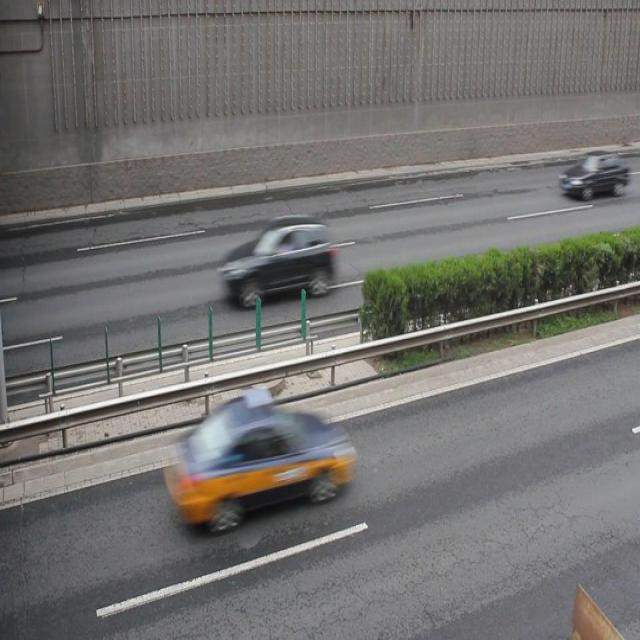car: (170, 388, 353, 523), (218, 220, 336, 302), (560, 152, 629, 194)
